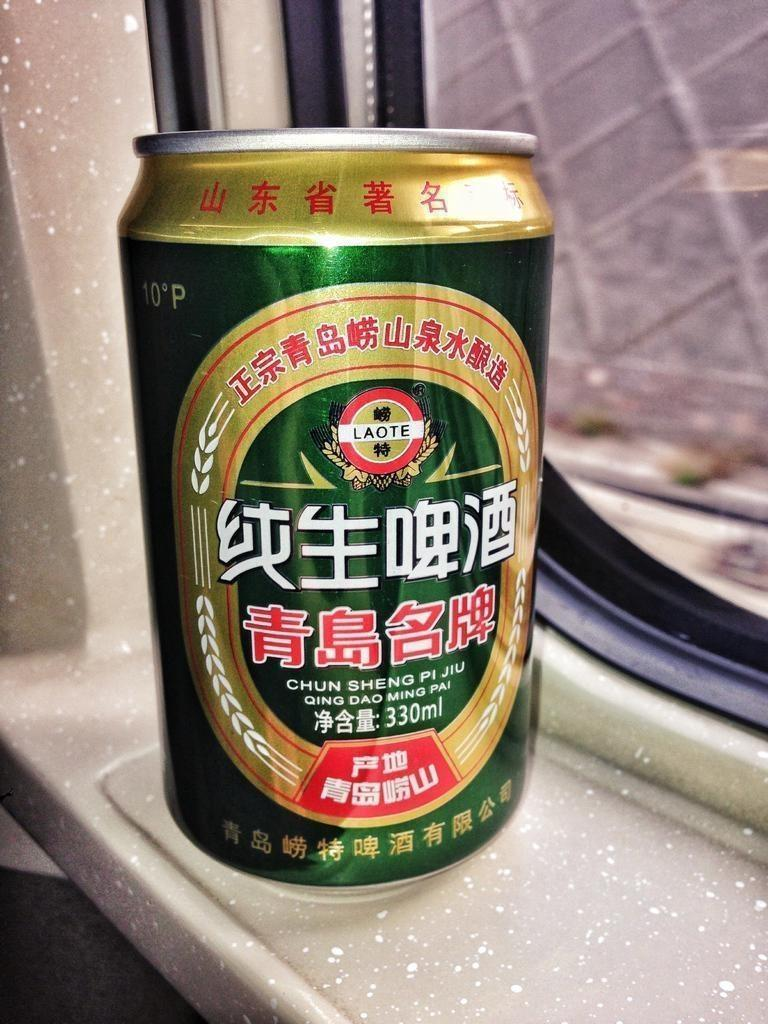tin can: (115, 124, 559, 899)
